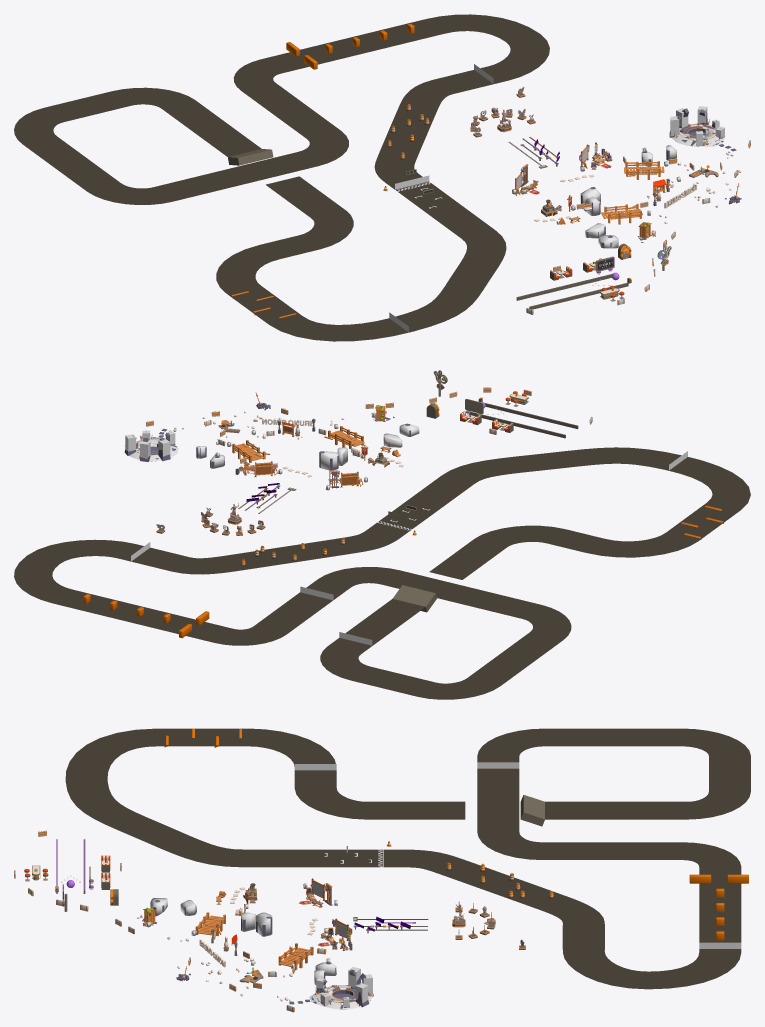
Rendered from areas.glb.
3 views of the same model, one above another, from view 1: azimuth 30°, elevation 25°; view 2: azimuth 150°, elevation 25°; view 3: azimuth 270°, elevation 25° (orthographic). The views are drawn at different scales.
Visible parts, largest first — view 1: refCircuitRoad, refBowlingBumpersPhysicalKinematicPositionBased, bridgePhysicalFixed.001; view 2: refCircuitRoad, refBowlingBumpersPhysicalKinematicPositionBased, jump; view 3: refCircuitRoad, jump, bridgePhysicalFixed, trimesh.001, bridgePhysicalFixed.001.
Part boxes in pixels (x1,y1,x2,y2): refCircuitRoad: (14, 14, 549, 341); refBowlingBumpersPhysicalKinematicPositionBased: (516, 274, 628, 309); bridgePhysicalFixed.001: (601, 203, 642, 224); refCircuitRoad: (14, 447, 750, 699); refBowlingBumpersPhysicalKinematicPositionBased: (469, 403, 578, 438); jump: (392, 585, 436, 612); refCircuitRoad: (65, 728, 750, 989); jump: (520, 795, 544, 826); bridgePhysicalFixed: (278, 943, 313, 969); trimesh.001: (309, 985, 372, 1009); bridgePhysicalFixed.001: (195, 912, 225, 936).
Size of the model in its own units: 160 by 9.69 by 175.
41 materials, 12 textured.
